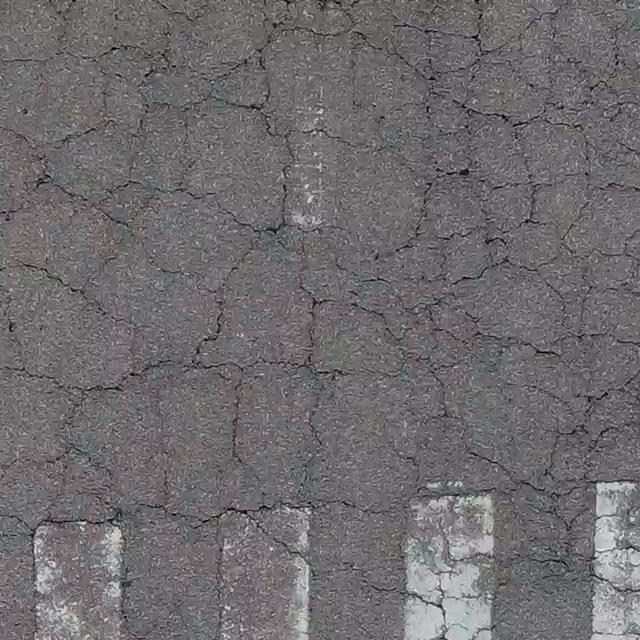GRIETA: (116, 529, 127, 639), (29, 537, 40, 639), (215, 536, 224, 639)
PIEL DE COCODRILO: (0, 0, 639, 639)
